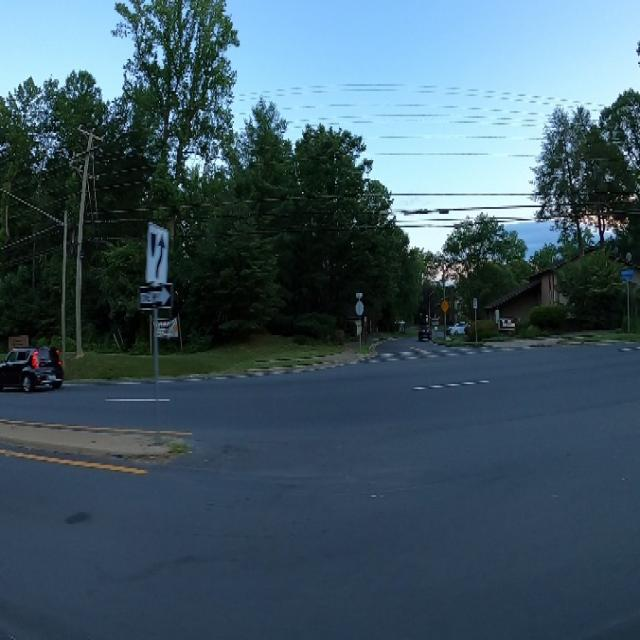car: (0, 332, 71, 399)
